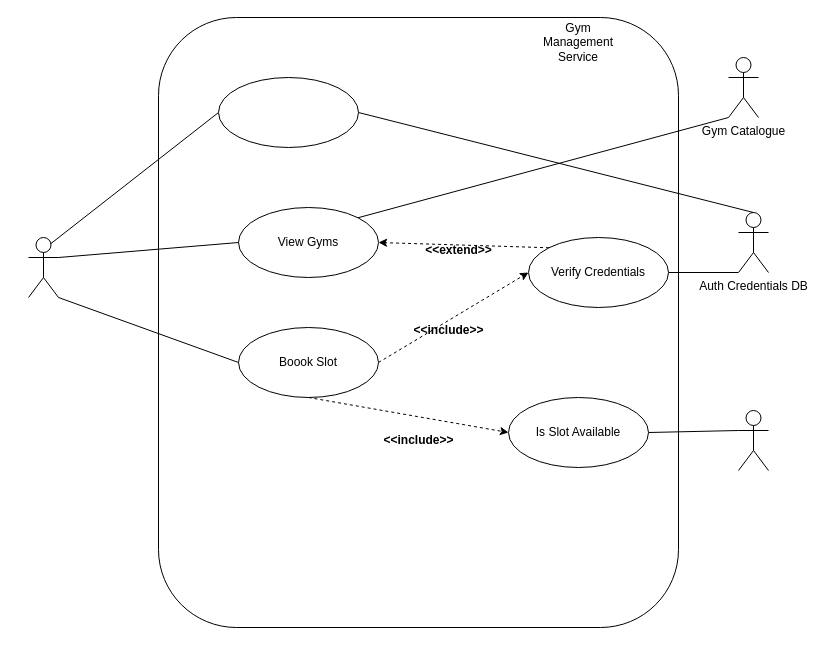
Some shapes in this 825 by 645 pixel diagram are drawn without their labels. Here are the shapes that lost their labels. From the top down, the centre of each, then its label:
At point (288, 112): "Registration".
At point (43, 267): "Customer".
At point (753, 440): "Schedular".
